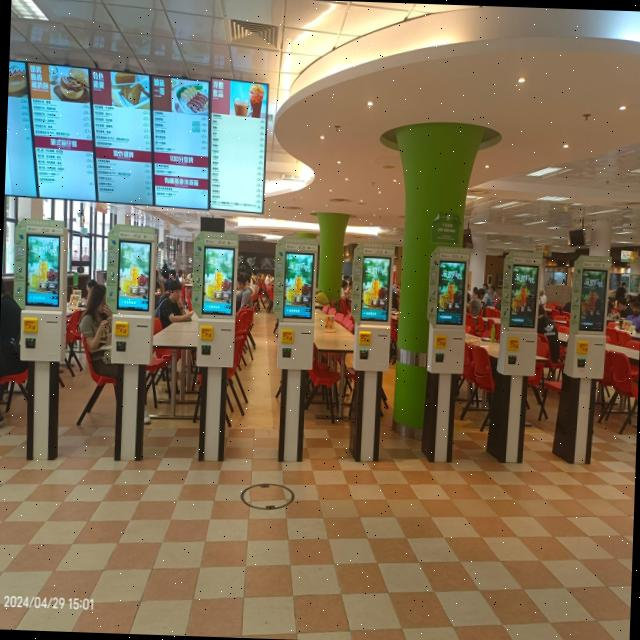orderKiosk: (12, 219, 69, 365), (104, 224, 156, 366), (190, 240, 240, 368), (350, 240, 394, 374), (566, 254, 610, 380), (274, 245, 317, 368), (498, 258, 540, 376), (427, 253, 468, 373)
